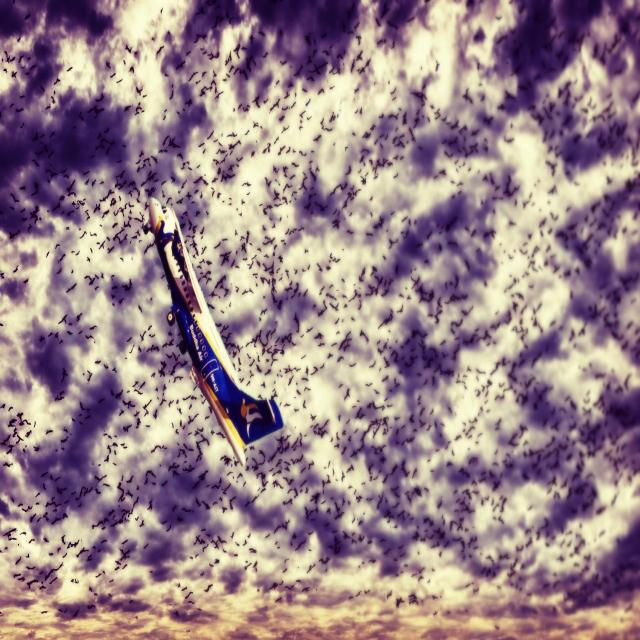airplane: (146, 196, 284, 468)
